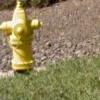Hydrant: (2, 1, 46, 78)
